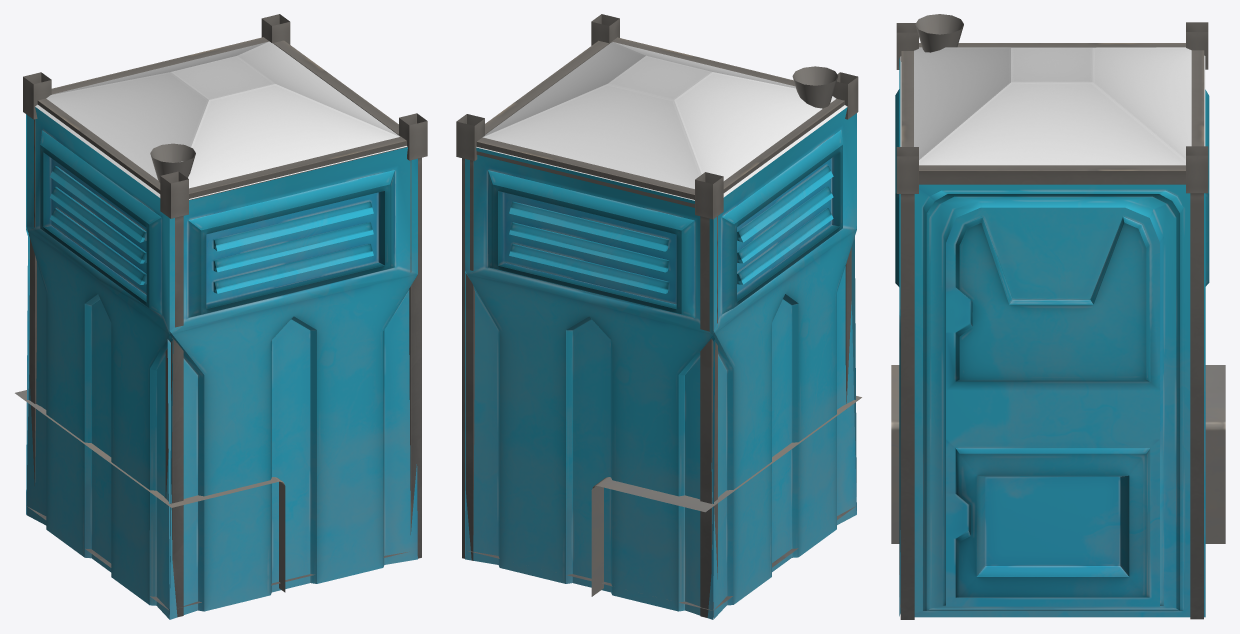
File: Dixi_Build_Low.fbx
3 views of the same model, side by side, from view 1: azimuth 30°, elevation 25°; view 2: azimuth 150°, elevation 25°; view 3: azimuth 270°, elevation 25° (orthographic). The views are drawn at different scales.
Visible parts, largest first — view 1: Dixi_Low; view 2: Dixi_Low; view 3: Dixi_Low.
Boxes of the visible parts, bbox=[...] form: Dixi_Low: bbox=[15, 14, 427, 619]; Dixi_Low: bbox=[456, 14, 861, 619]; Dixi_Low: bbox=[891, 14, 1225, 619].
Size of the model in its own units: 132 by 221 by 137.
Materials: 1 (1 with a texture image).
